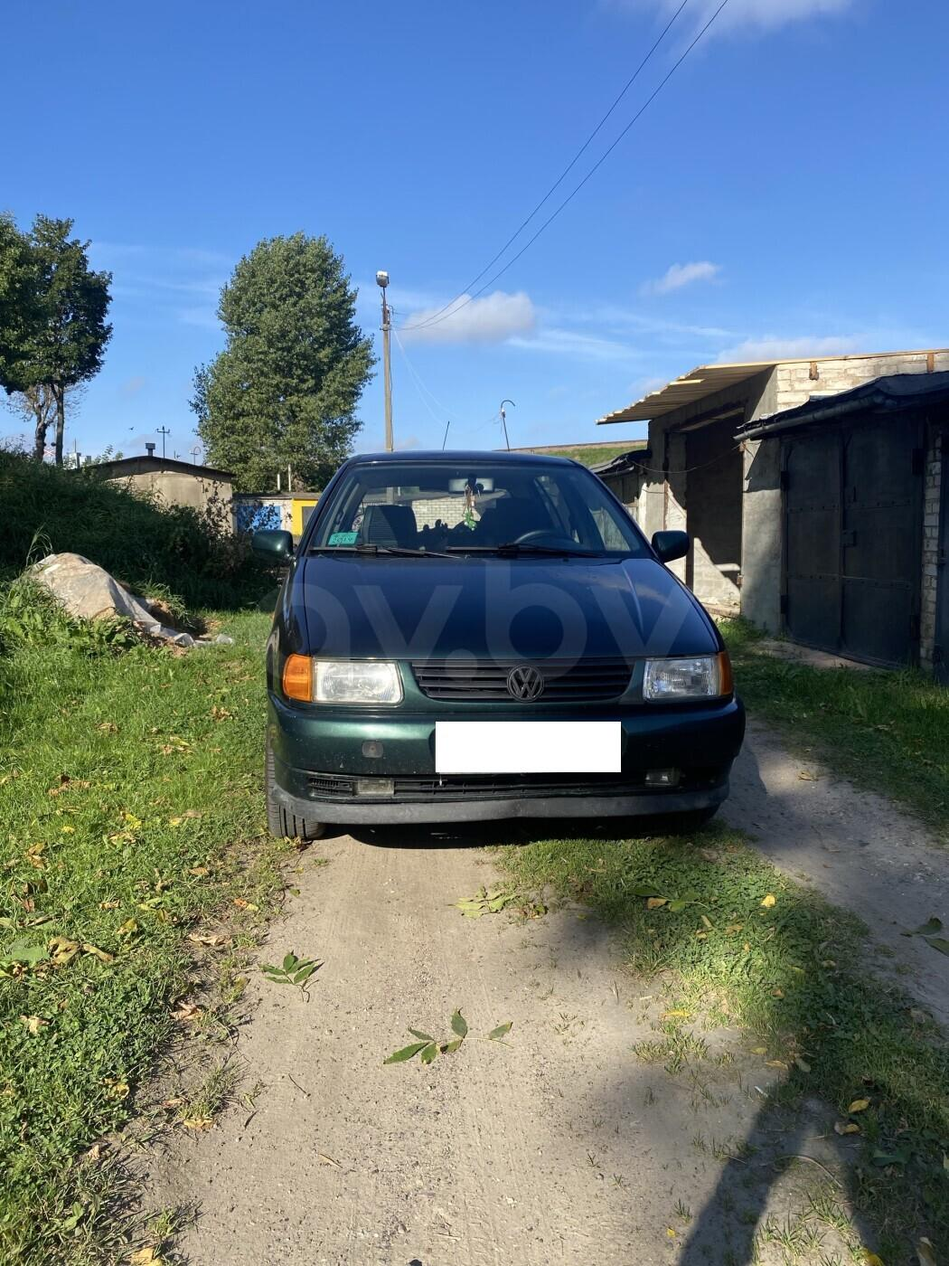Polo_1994-2002: (246, 440, 759, 848)
